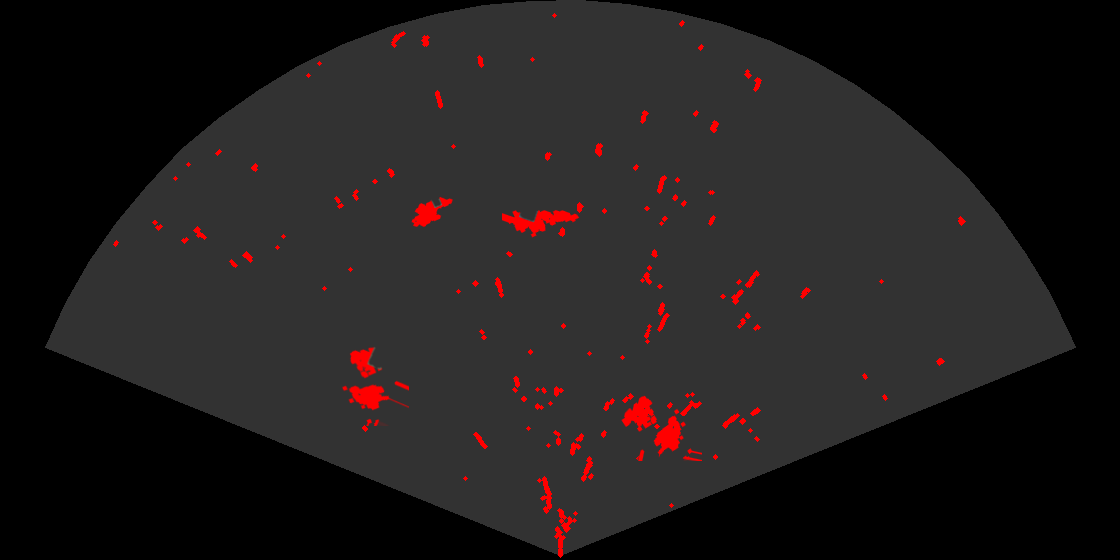AUV: (410, 195, 454, 229)
cage: (340, 345, 409, 426), (620, 394, 702, 461)
frogman: (502, 208, 581, 239)
